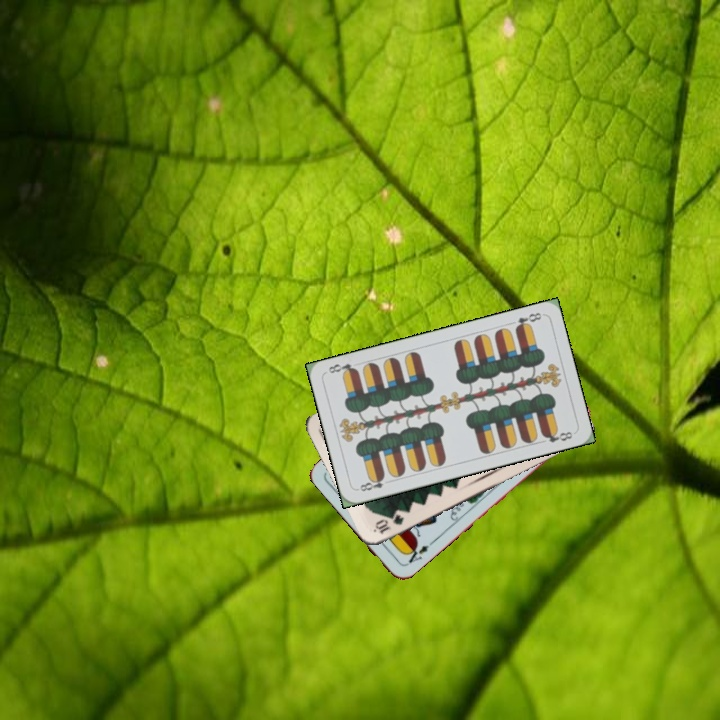E8: (511, 308, 544, 333), (354, 472, 387, 494)
EA: (401, 538, 436, 566)
G10: (371, 510, 407, 537)
